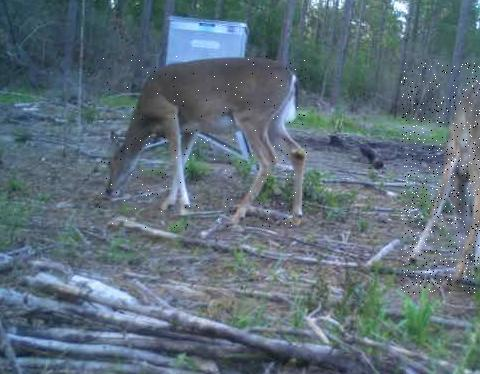Deer: (99, 54, 308, 229), (401, 63, 480, 294)
